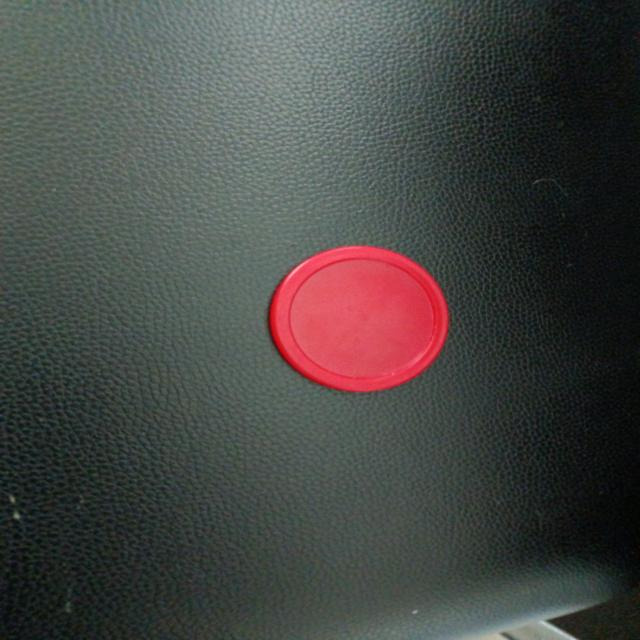chip: (265, 244, 453, 394)
